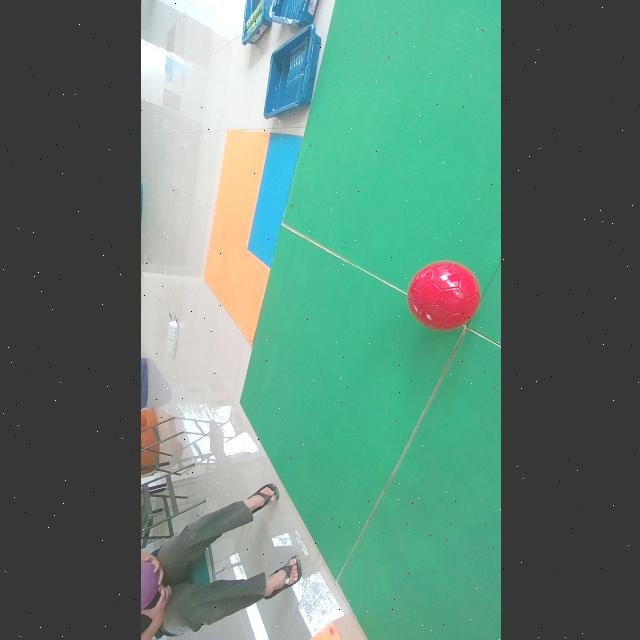P: (140, 561, 158, 611)
R: (407, 260, 479, 331)
